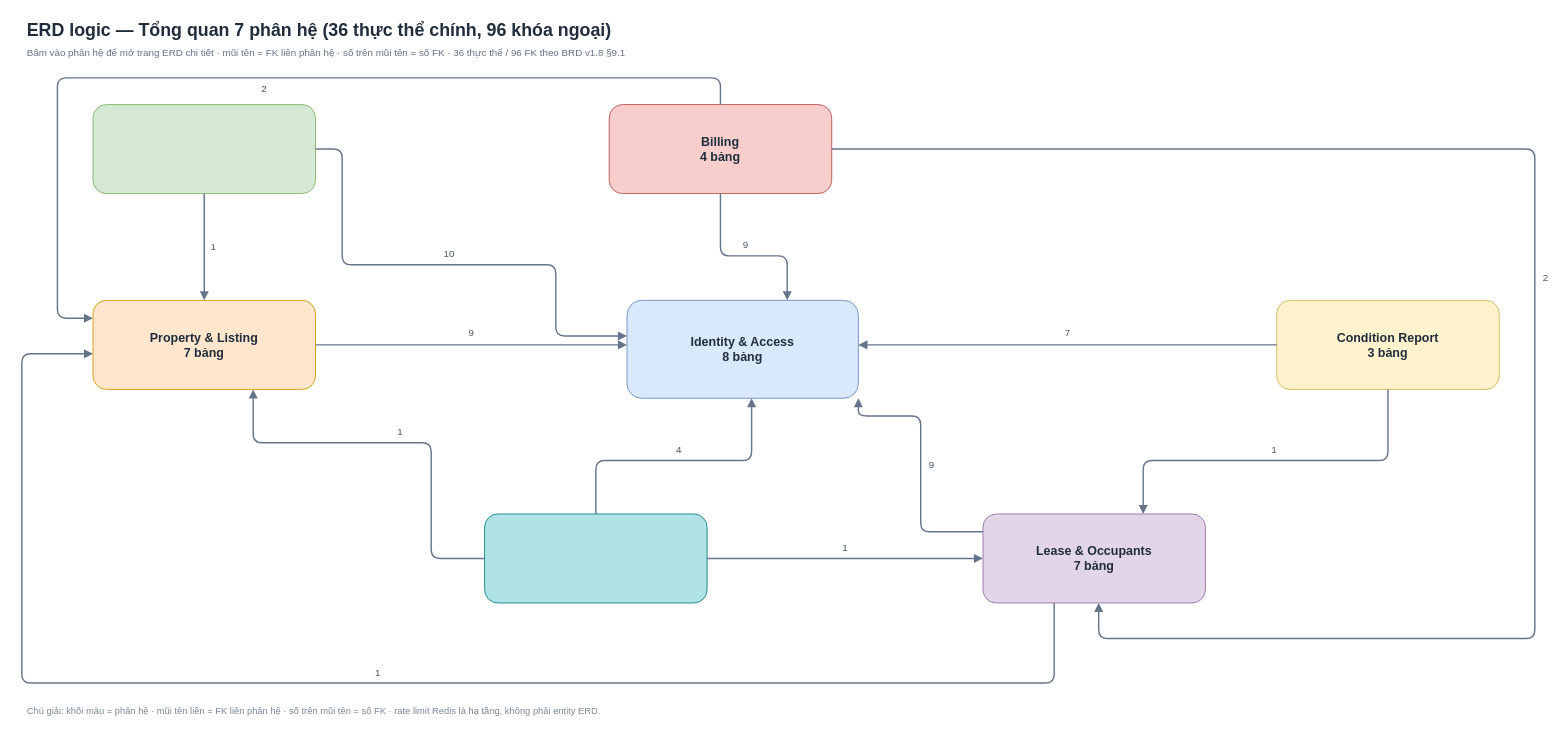
This 1564x735 diagram has some shape labels left out. The centre of each missing label's shape, as x and y in pixels:
"Platform Ops 5 bảng" goes at pixel 204 149.
"Ticket 2 bảng" goes at pixel 595 558.
